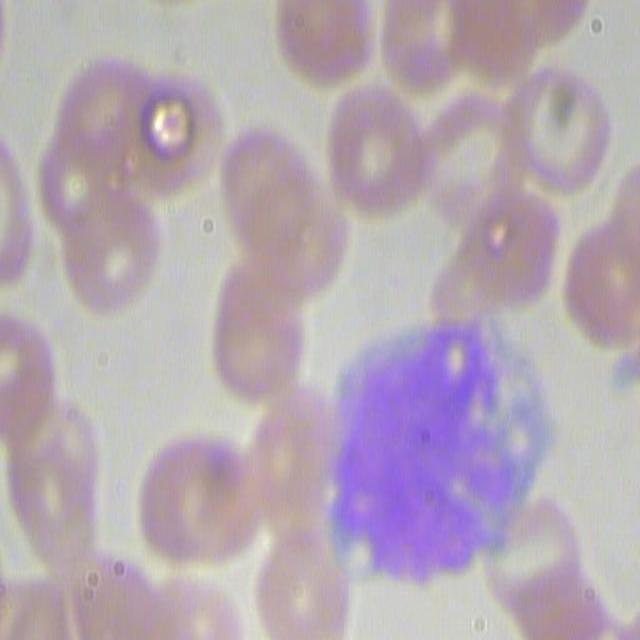RBC: (41, 47, 188, 320), (488, 484, 634, 640), (219, 120, 343, 297), (448, 170, 568, 328), (98, 56, 215, 210), (134, 430, 258, 574), (496, 61, 615, 209), (5, 398, 105, 572), (318, 84, 430, 224), (204, 260, 306, 410), (249, 532, 348, 637), (564, 215, 640, 348), (271, 0, 380, 89), (272, 407, 339, 530), (0, 137, 38, 291), (7, 319, 55, 386)
WBC: (340, 343, 542, 556)
platelets: (607, 347, 640, 404)
